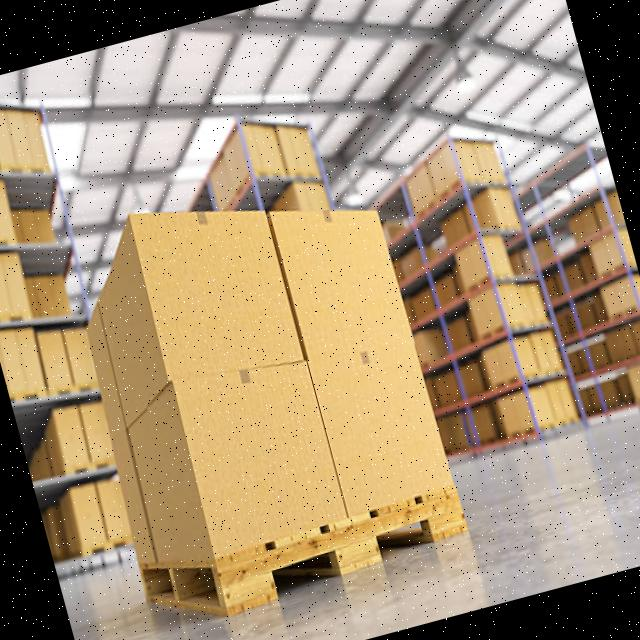Wooden-Pallets: (137, 486, 470, 620)
